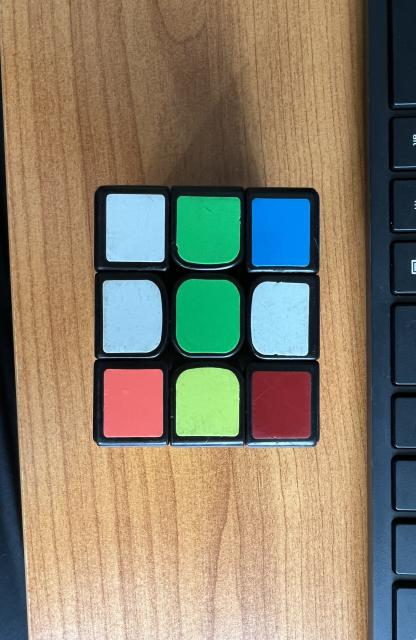Blue: (251, 198, 310, 266)
Green: (176, 279, 240, 354), (177, 196, 240, 264)
Orange: (103, 369, 164, 438)
Red: (252, 371, 311, 439)
White: (251, 281, 310, 356), (103, 280, 162, 352), (106, 194, 166, 262)
Yellow: (176, 368, 239, 436)
